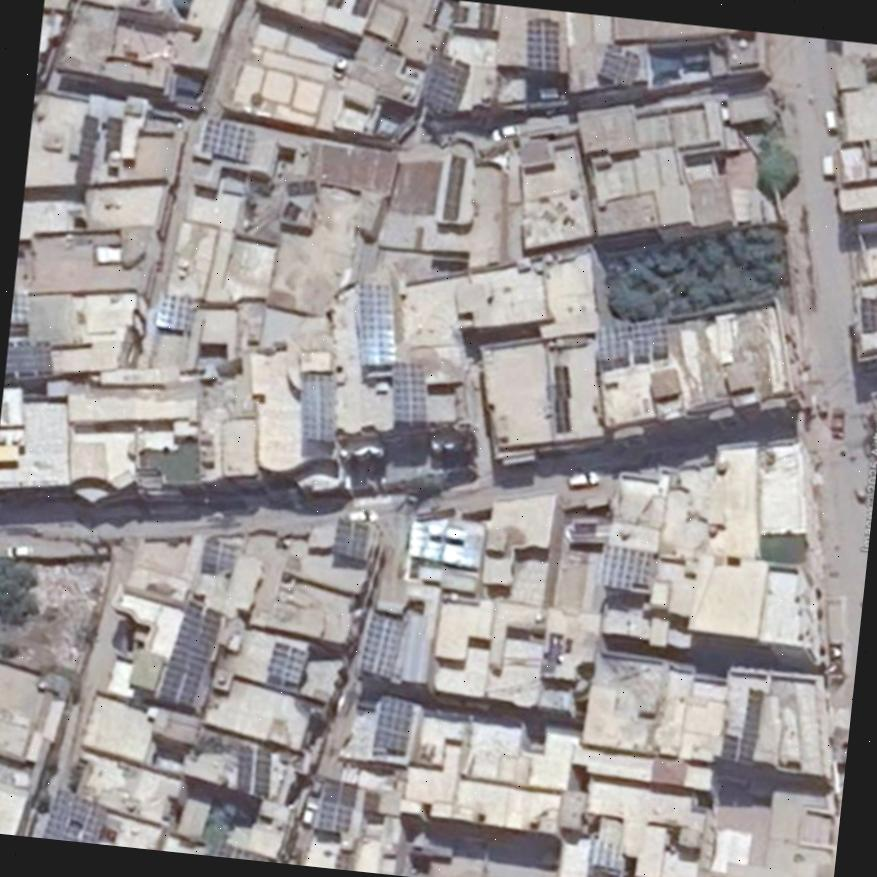Solarpanel: (158, 601, 222, 706), (405, 515, 485, 567), (43, 788, 106, 841), (358, 283, 398, 365), (597, 316, 664, 360), (419, 53, 468, 111), (362, 613, 401, 676), (301, 370, 335, 442), (595, 545, 649, 589), (199, 117, 253, 161), (371, 694, 411, 751), (316, 779, 356, 833), (390, 362, 423, 423), (737, 687, 763, 760), (72, 112, 97, 183), (598, 44, 640, 86), (267, 641, 307, 683), (237, 745, 268, 799), (525, 20, 557, 70), (5, 340, 48, 372), (330, 521, 367, 558), (156, 293, 191, 331), (440, 155, 460, 219), (198, 540, 236, 572), (552, 364, 568, 433), (104, 116, 119, 148), (863, 296, 877, 330), (722, 733, 737, 762), (479, 3, 493, 28), (351, 0, 371, 16), (325, 0, 341, 7)
